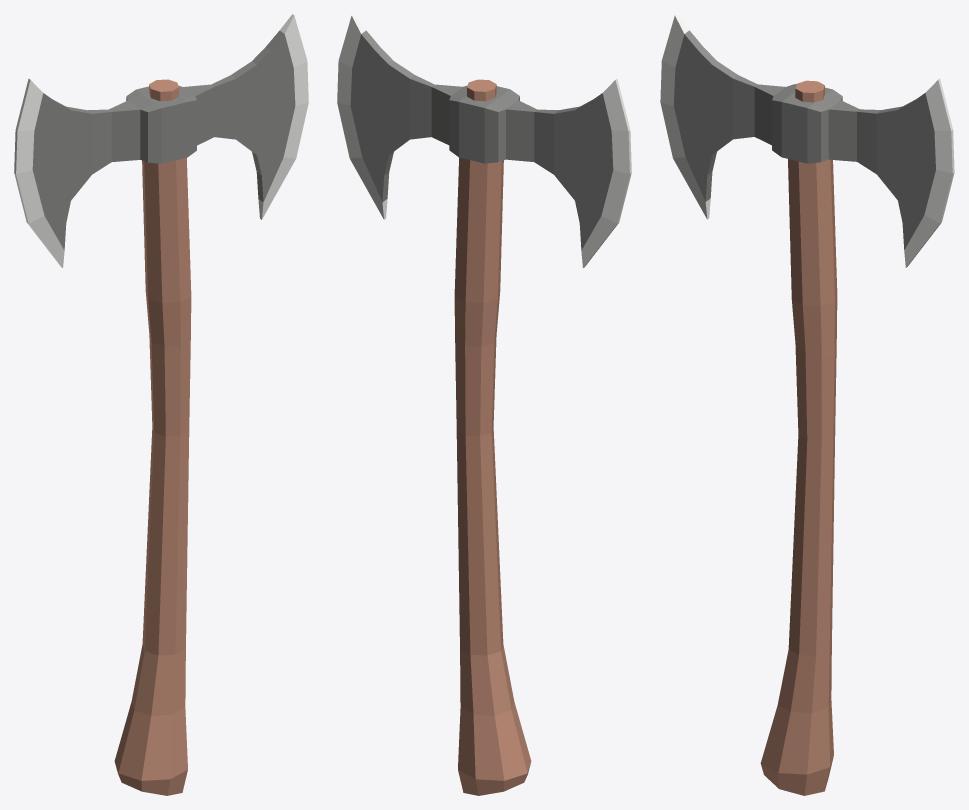
File: axes3.glb
3 renders of one model, left to right at view 1: azimuth 30°, elevation 25°; view 2: azimuth 150°, elevation 25°; view 3: azimuth 330°, elevation 25°, orthographic.
Parts seen in each view (by area): view 1: Battle Axe; view 2: Battle Axe; view 3: Battle Axe.
Boxes of the visible parts, x1,y1,x2,y2 form: Battle Axe: [14, 14, 308, 795]; Battle Axe: [337, 14, 631, 795]; Battle Axe: [660, 14, 954, 795].
Size of the model in its own units: 0.7309 by 1.77 by 0.1646.
